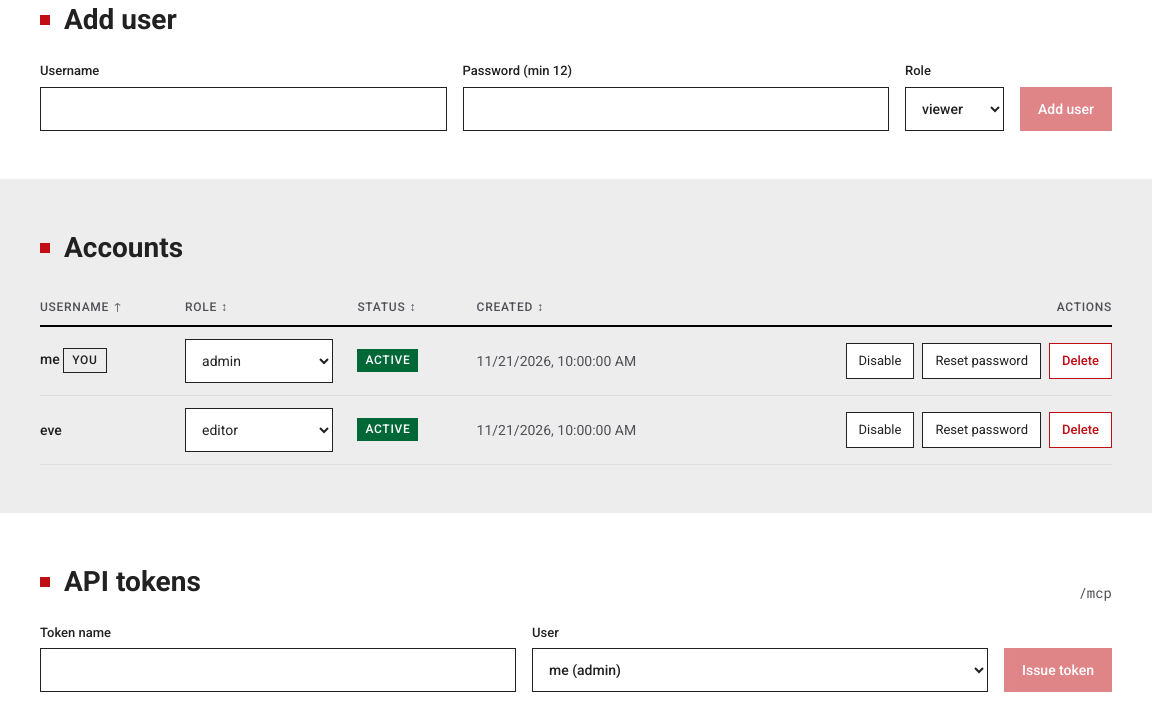
Users page actions › shows the 409 rule message inline when demoting yourself
The width and height of the screenshot is (1152, 701).
(page scrolled)
Select "viewer" in the dropdown named "Role of me". click: (259, 361)
box: [185, 339, 333, 383]
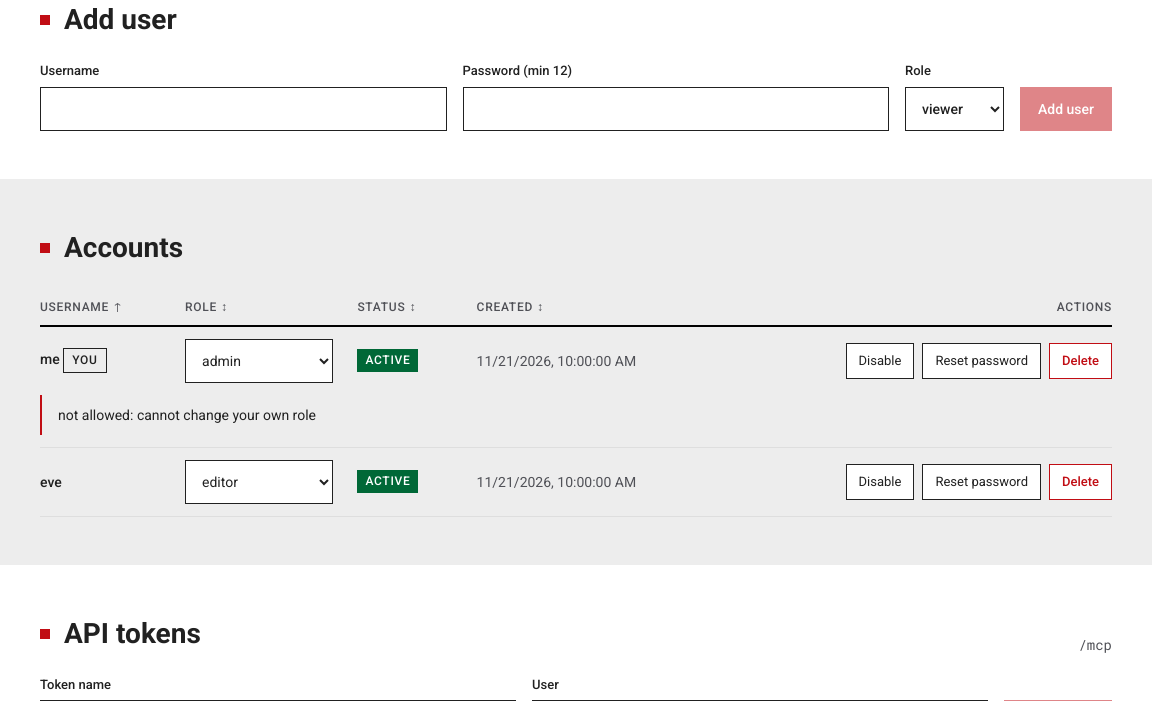
Result: the message shows "cannot change your own role" at [58, 407, 316, 423]
